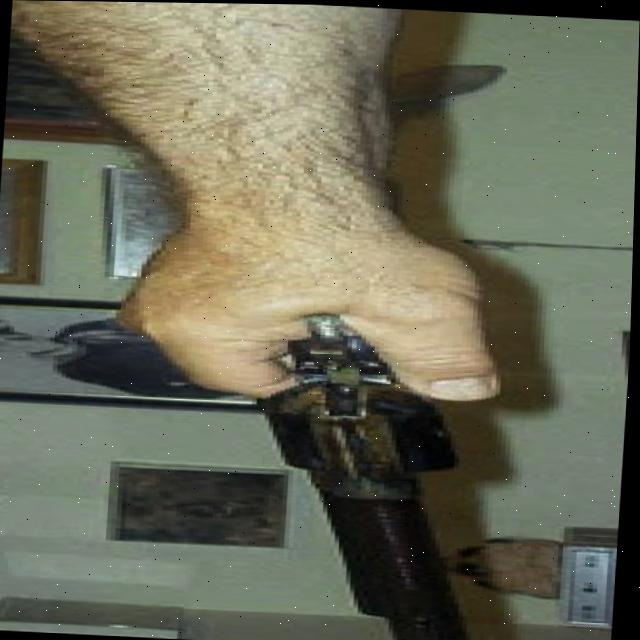pistol: (239, 307, 500, 640)
